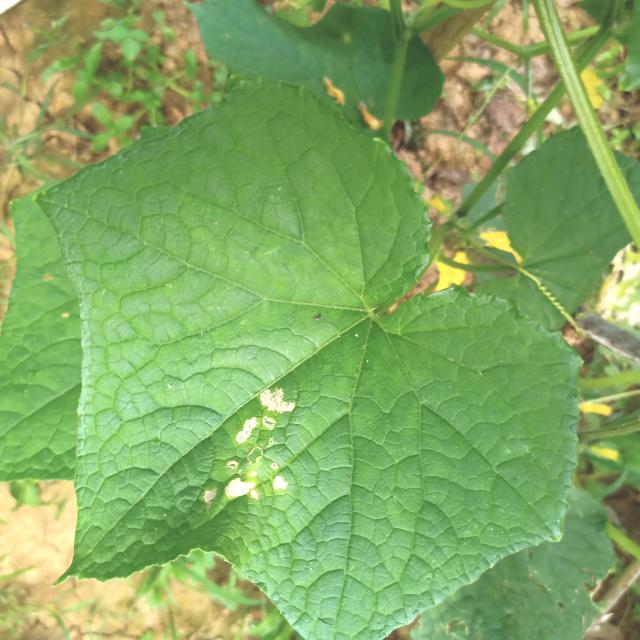disease_cucumber: (201, 376, 301, 514)
